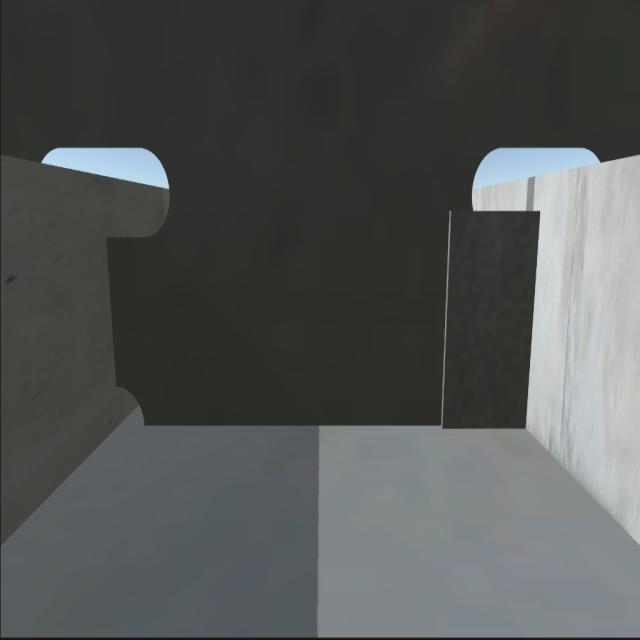fillet_hole: (113, 383, 151, 431)
fillet_yong_jeop_jang: (140, 416, 526, 440)
longi_yong_jeop_jang: (104, 241, 123, 386), (524, 210, 536, 432)
plate_CP01: (437, 198, 536, 435)
